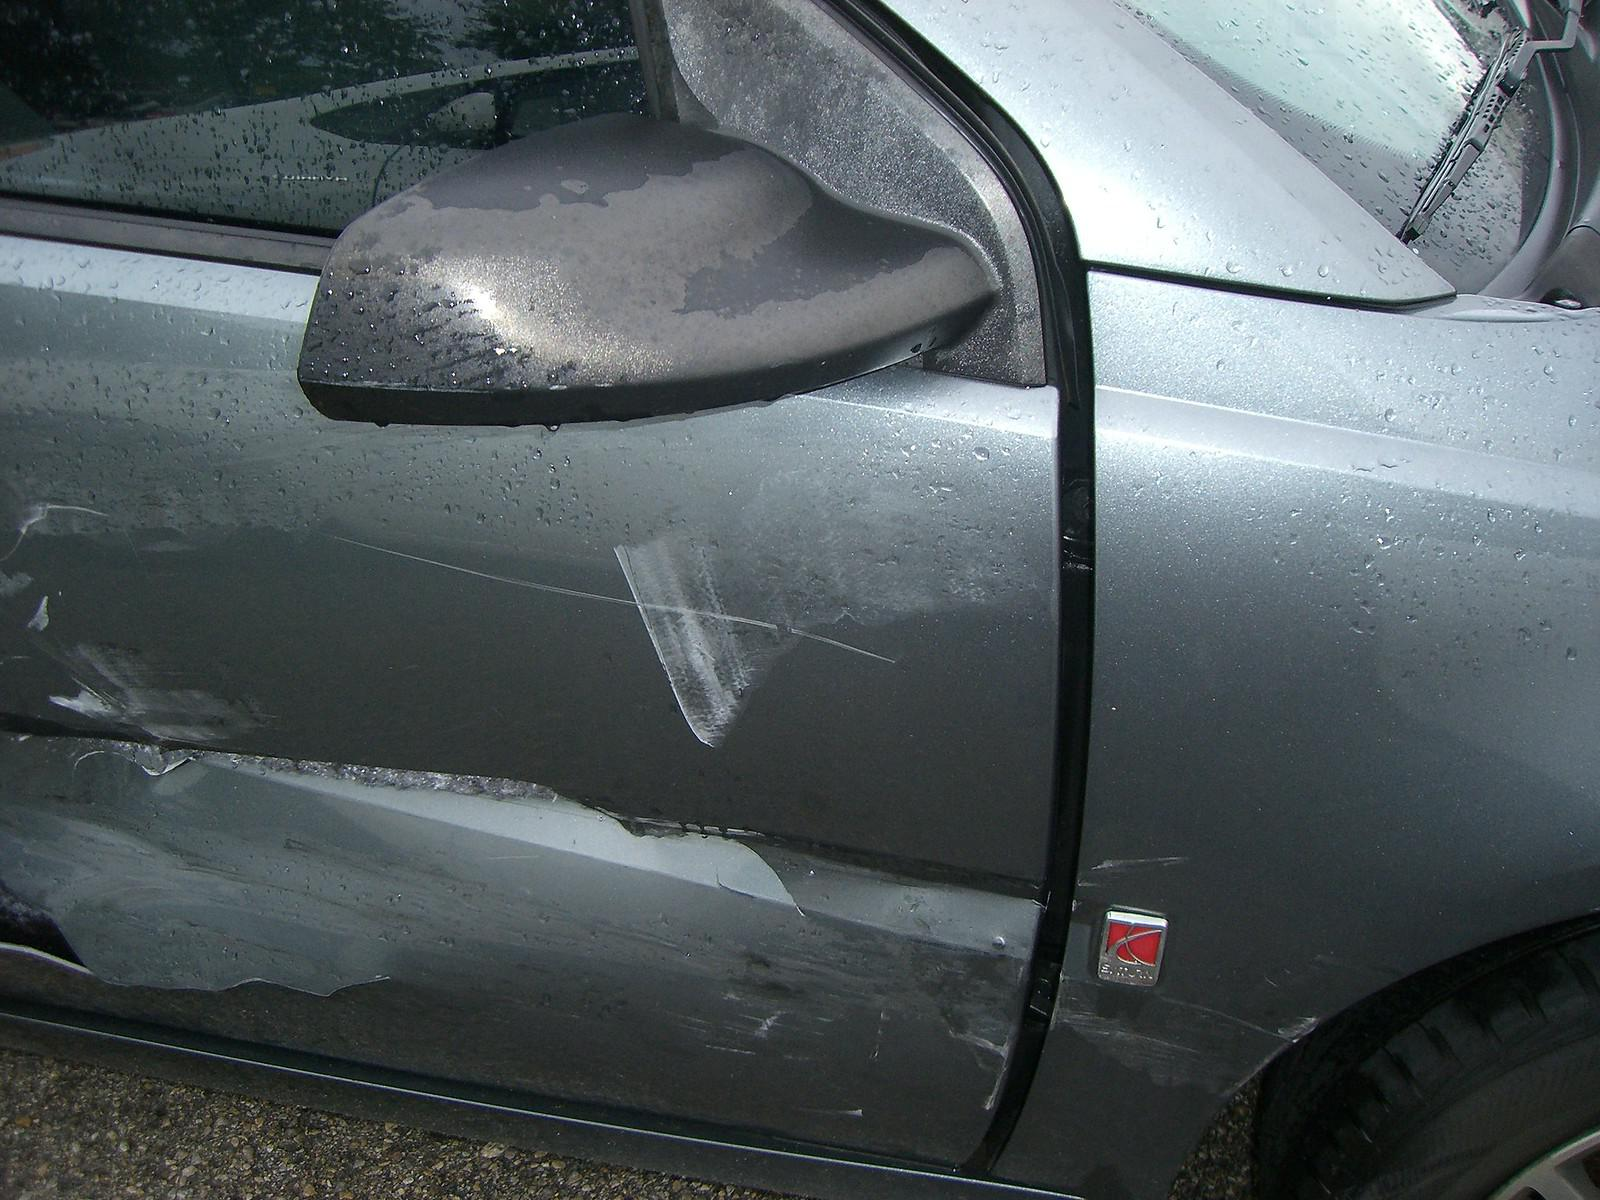doorouter-dent: (0, 183, 1027, 1112)
